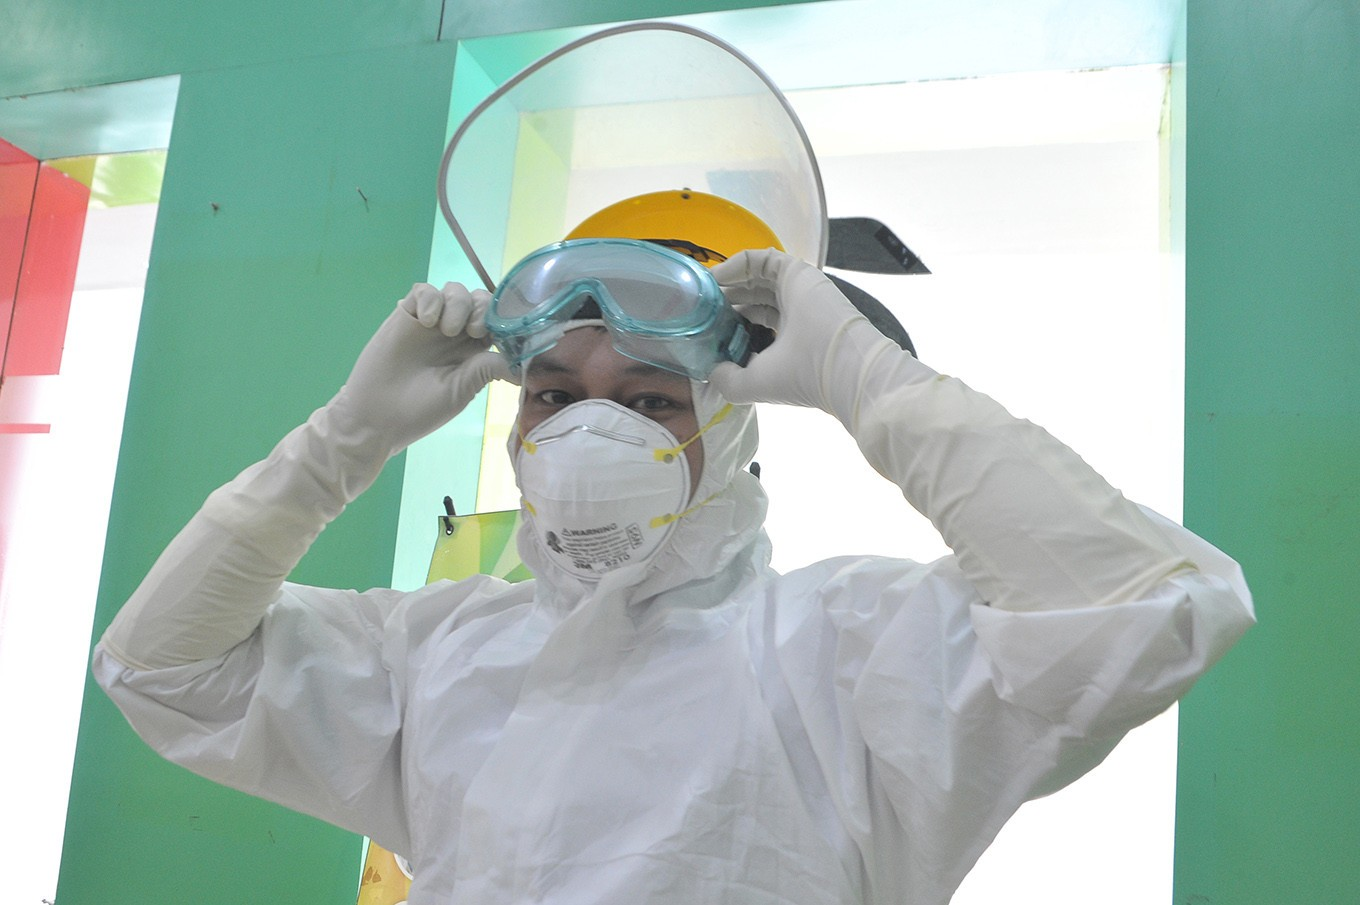Coverall: (87, 371, 1263, 905)
Gloves: (701, 240, 935, 436), (337, 274, 518, 464)
Goggles: (479, 233, 751, 386)
with_mask: (509, 381, 693, 586)
